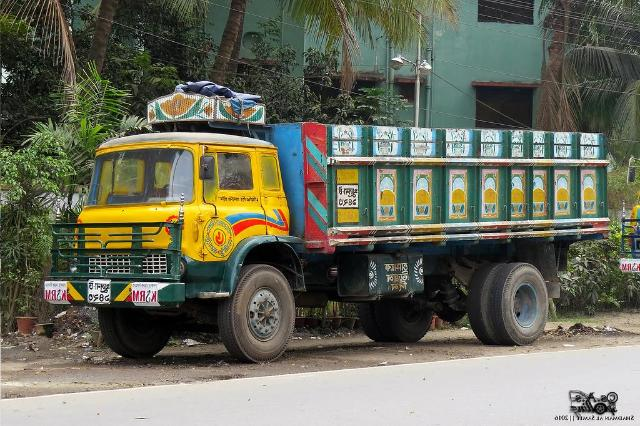truck: (42, 71, 617, 367)
